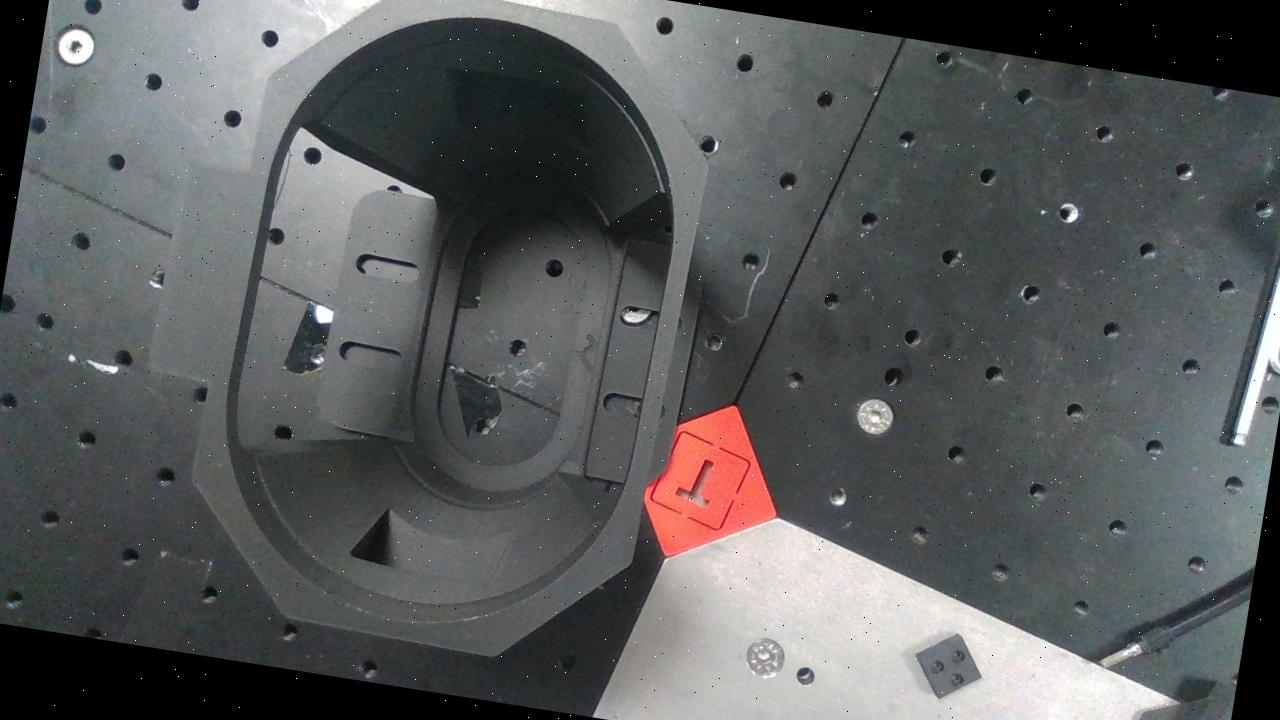big_interface: (170, 0, 731, 680)
